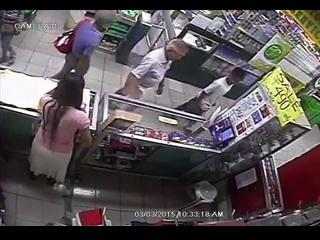Normal: (28, 73, 94, 196), (48, 11, 118, 82), (114, 39, 190, 100), (174, 67, 245, 119)
